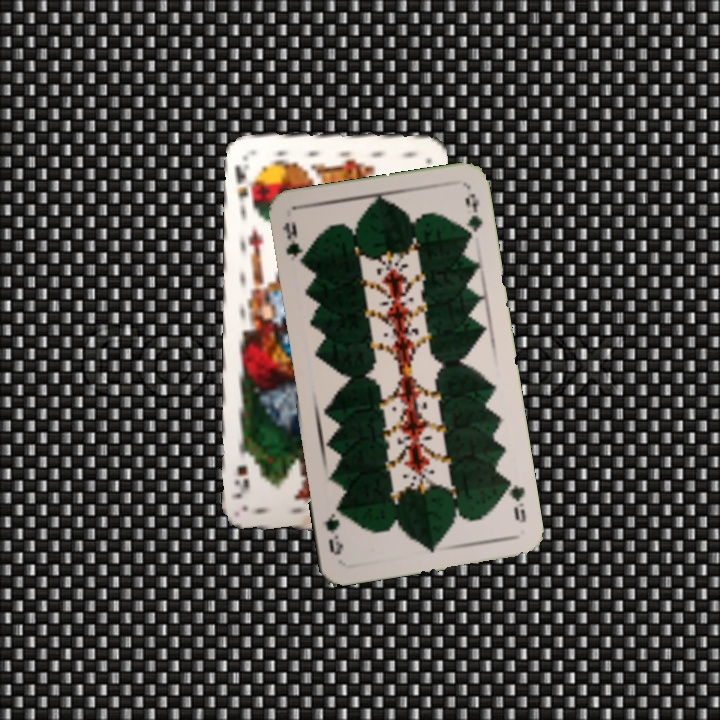G9: (500, 474, 529, 525), (278, 217, 303, 260)
SK: (231, 161, 258, 214)
